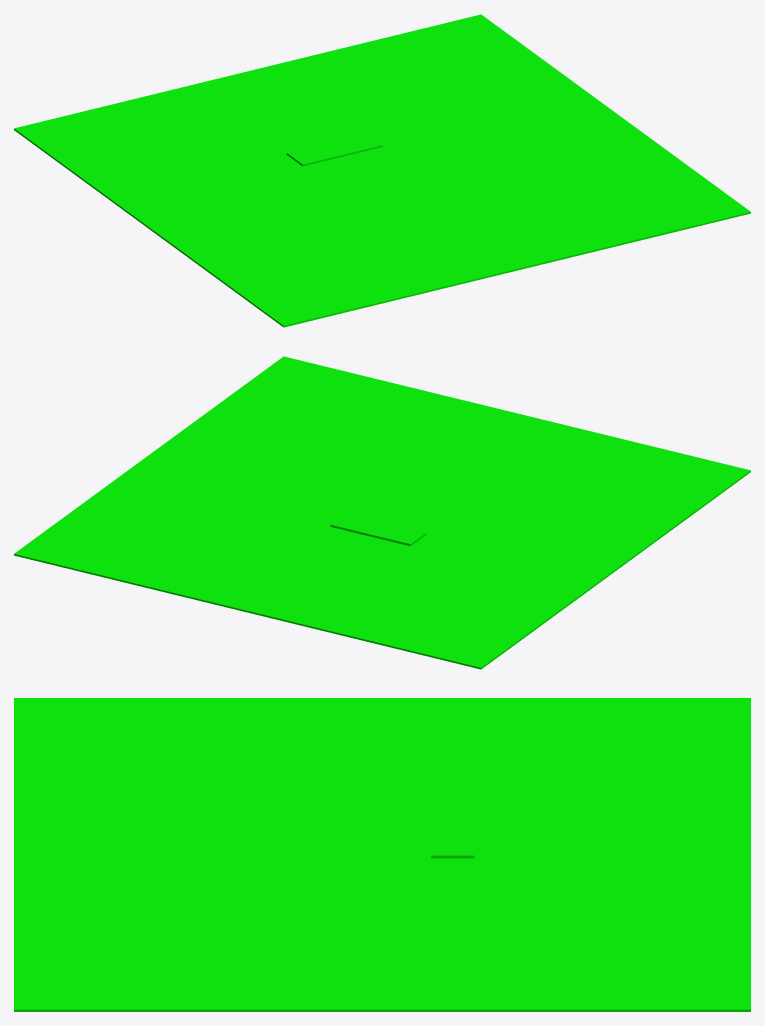
Rendered from Room_4_walkables.fbx.
3 renders of one model, top to bottom at view 1: azimuth 30°, elevation 25°; view 2: azimuth 150°, elevation 25°; view 3: azimuth 270°, elevation 25°, orthographic. The views are drawn at different scales.
Visible parts, largest first — view 1: Collider_floor; view 2: Collider_floor; view 3: Collider_floor.
Part boxes in pixels (x1,y1,x2,y2): Collider_floor: (14, 14, 750, 327); Collider_floor: (14, 356, 750, 669); Collider_floor: (14, 698, 750, 1011).
Size of the model in its own units: 7000 by 134 by 7000.
